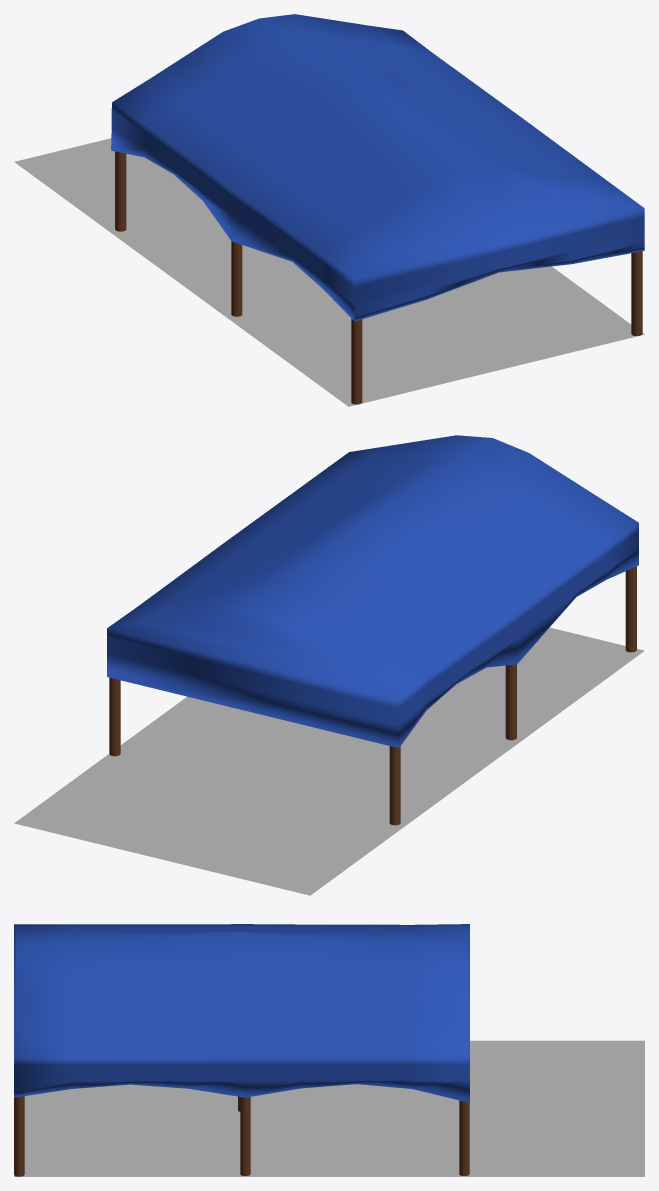
File: refeitorio lona 1.fbx
The picture shows the model from 3 angles, top to bottom: view 1: azimuth 30°, elevation 25°; view 2: azimuth 150°, elevation 25°; view 3: azimuth 270°, elevation 25°; orthographic projection. The views are drawn at different scales.
Visible parts, largest first — view 1: Toldo refeitorio; view 2: Toldo refeitorio; view 3: Toldo refeitorio.
Part boxes in pixels (x1=…): Toldo refeitorio: x1=14, y1=14, x2=644, y2=406; Toldo refeitorio: x1=14, y1=435, x2=644, y2=895; Toldo refeitorio: x1=14, y1=924, x2=644, y2=1176.
Bounding box in the file's own units: 9.2 × 5.6 × 18.
